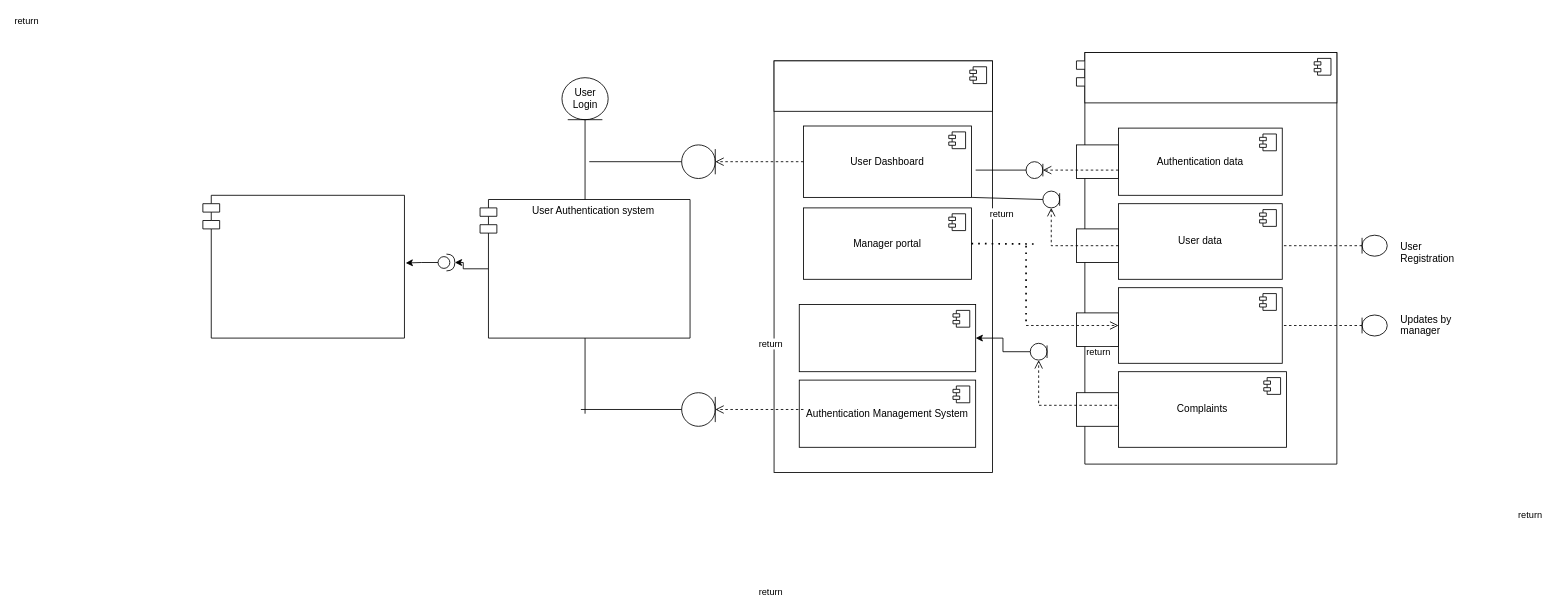
This 1557x611 diagram has some shape labels left out. Each missing label, with the centre of its shape:
"Clothes Logs" goes at [1200,325].
"Complaints form" goes at [887,338].
"Database" goes at [1210,77].
"Laundry IITJ System" goes at [303,266].
"User Interface" goes at [882,85].
